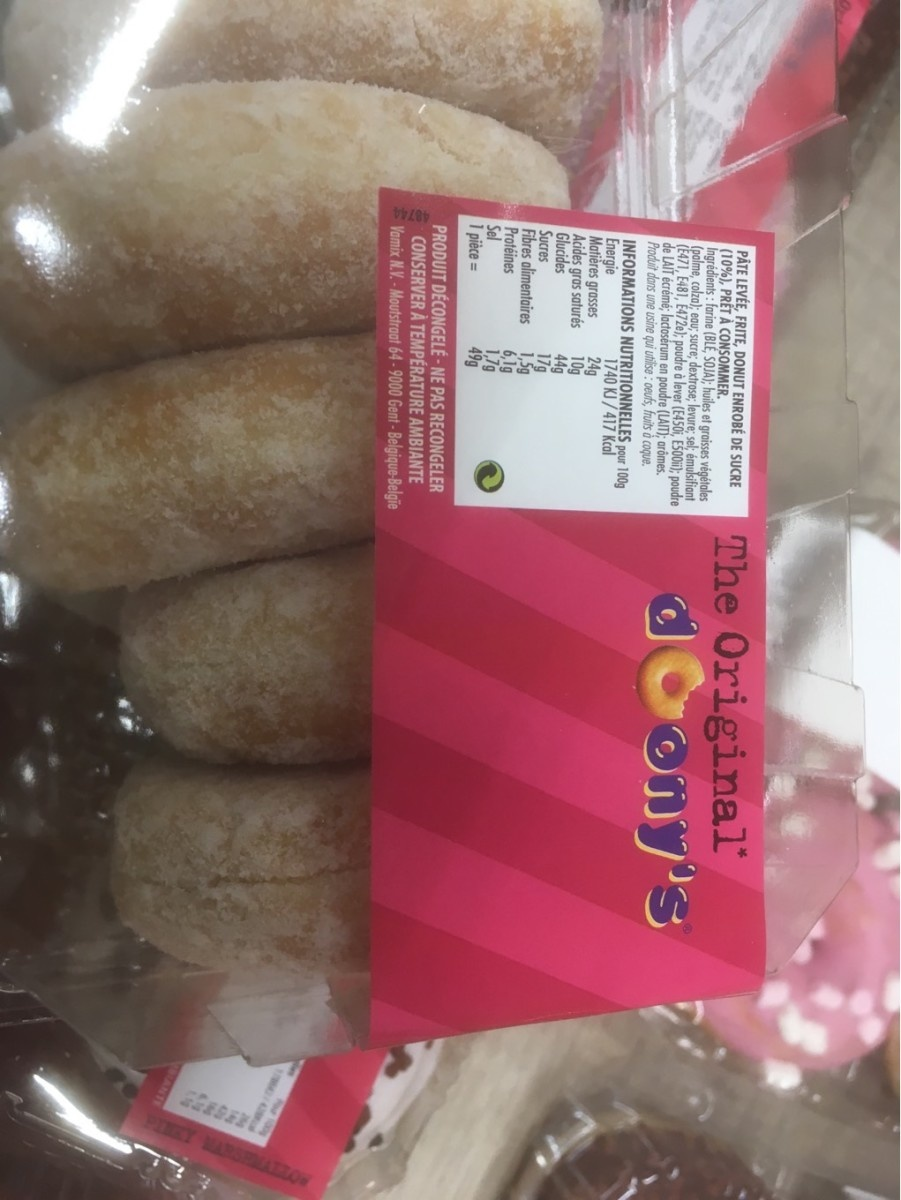ingredients: (639, 239, 718, 515)
